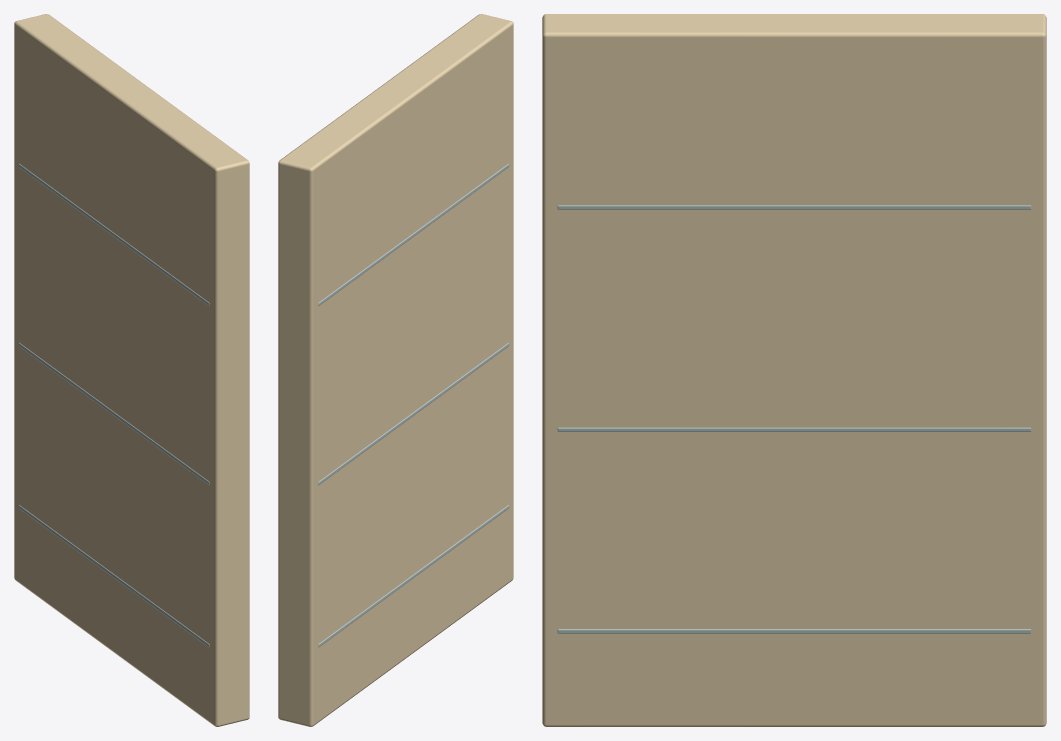
The model's file is dishwasher-case-side-40-light.glb.
3 renders of one model, left to right at view 1: azimuth 30°, elevation 25°; view 2: azimuth 150°, elevation 25°; view 3: azimuth 270°, elevation 25°, orthographic. The views are drawn at different scales.
Parts seen in each view (by area): view 1: cream, steel; view 2: cream, steel; view 3: cream, steel.
Part boxes in pixels (<box>): cream: <box>14,14,249,726</box>; steel: <box>18,163,209,647</box>; cream: <box>278,14,513,726</box>; steel: <box>318,163,509,647</box>; cream: <box>542,14,1046,726</box>; steel: <box>557,205,1031,633</box>.
Size of the model in its own units: 1.04 by 15.2 by 10.
